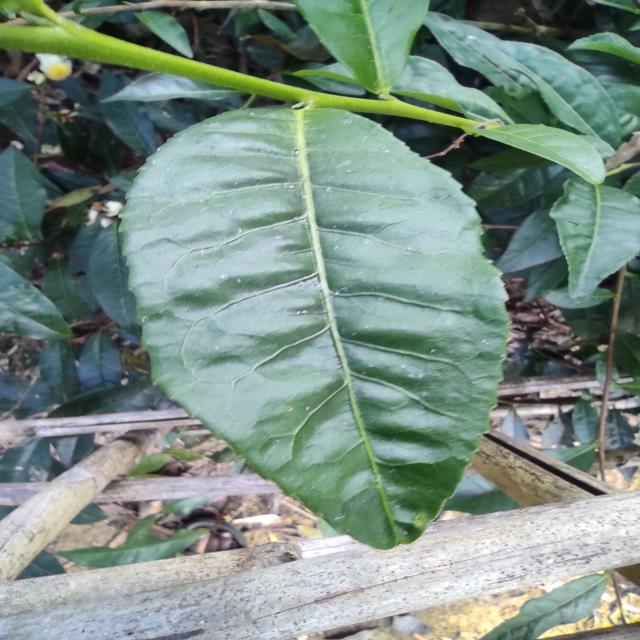Category D(7+ days, Not for Tea): (100, 100, 531, 558)
